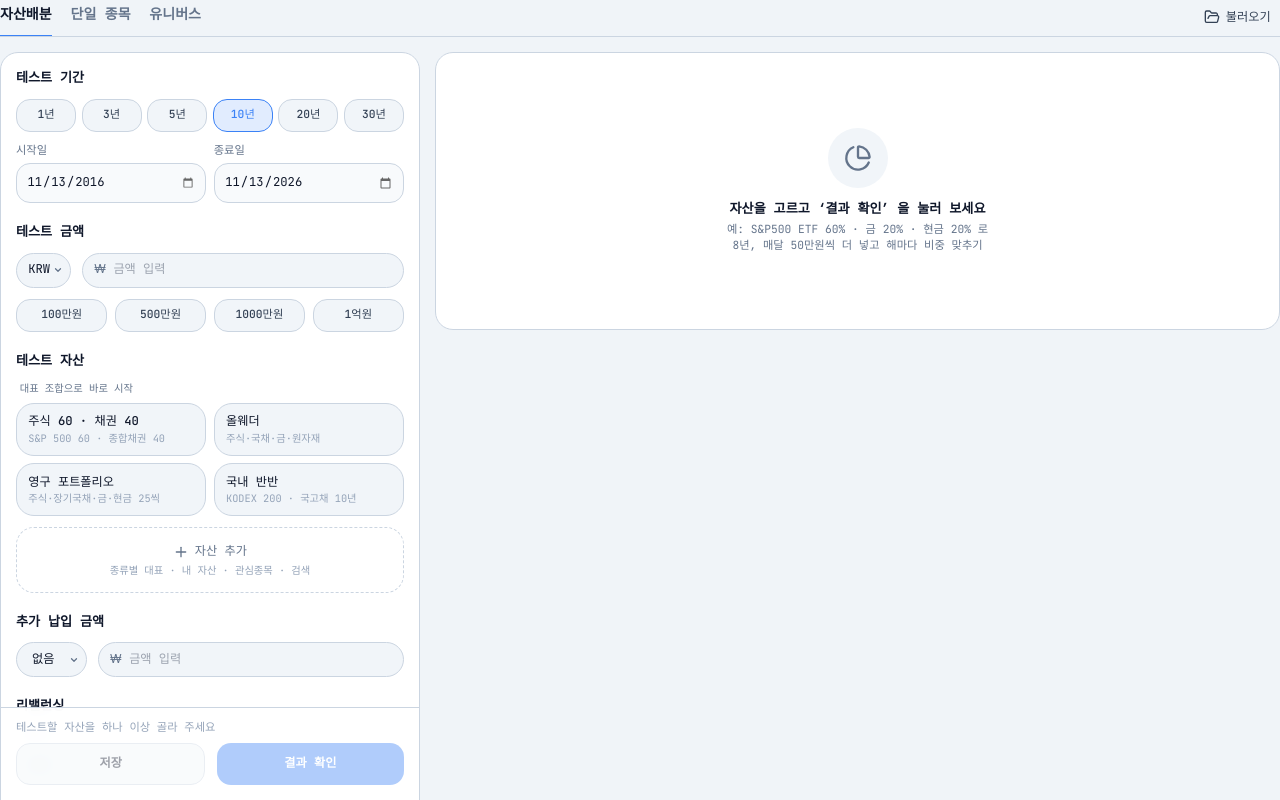
Test: 3) 결과 화면에서 저장 › 로그인 전이면 창 대신 왜 안 되는지 말한다
Click the tab "단일 종목" at (101, 18), box [70, 0, 131, 37]
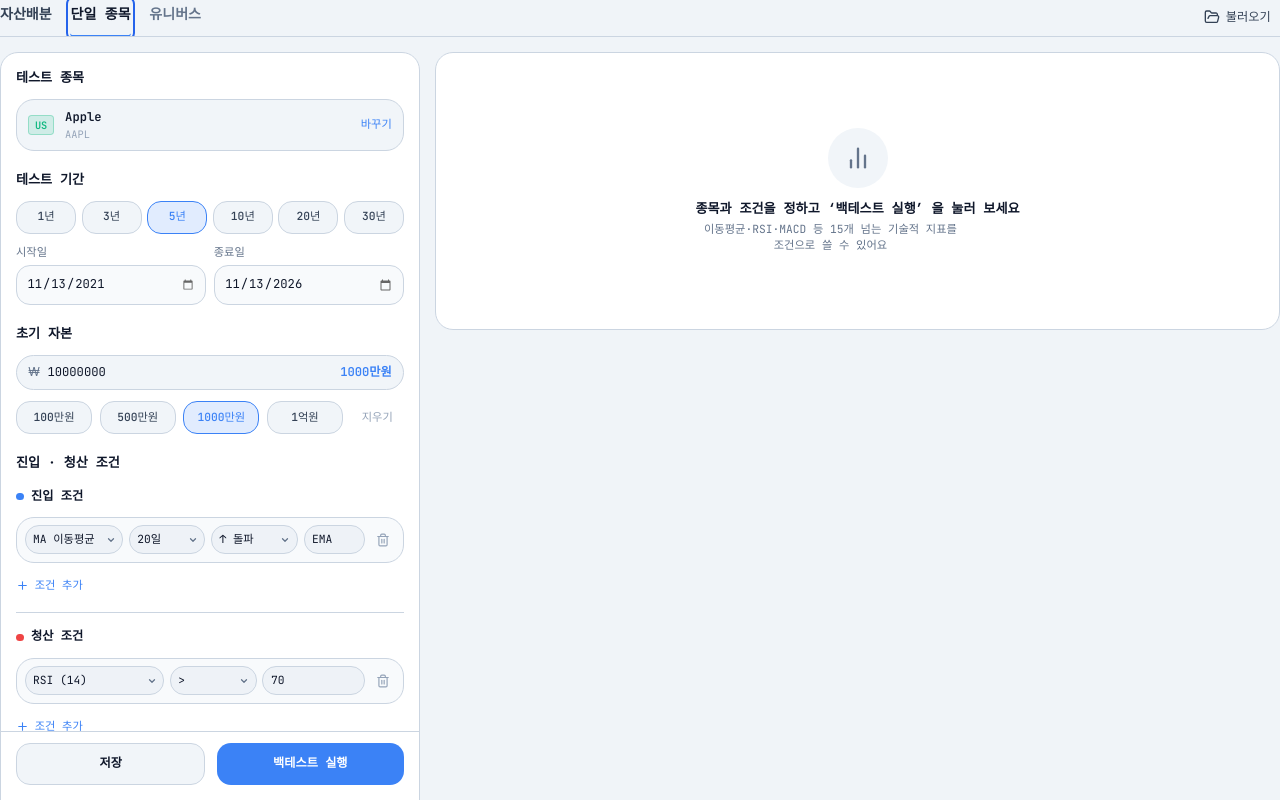
Type "2021-01-04" into the date field labelled "시작일" at (111, 285), box [16, 265, 206, 305]
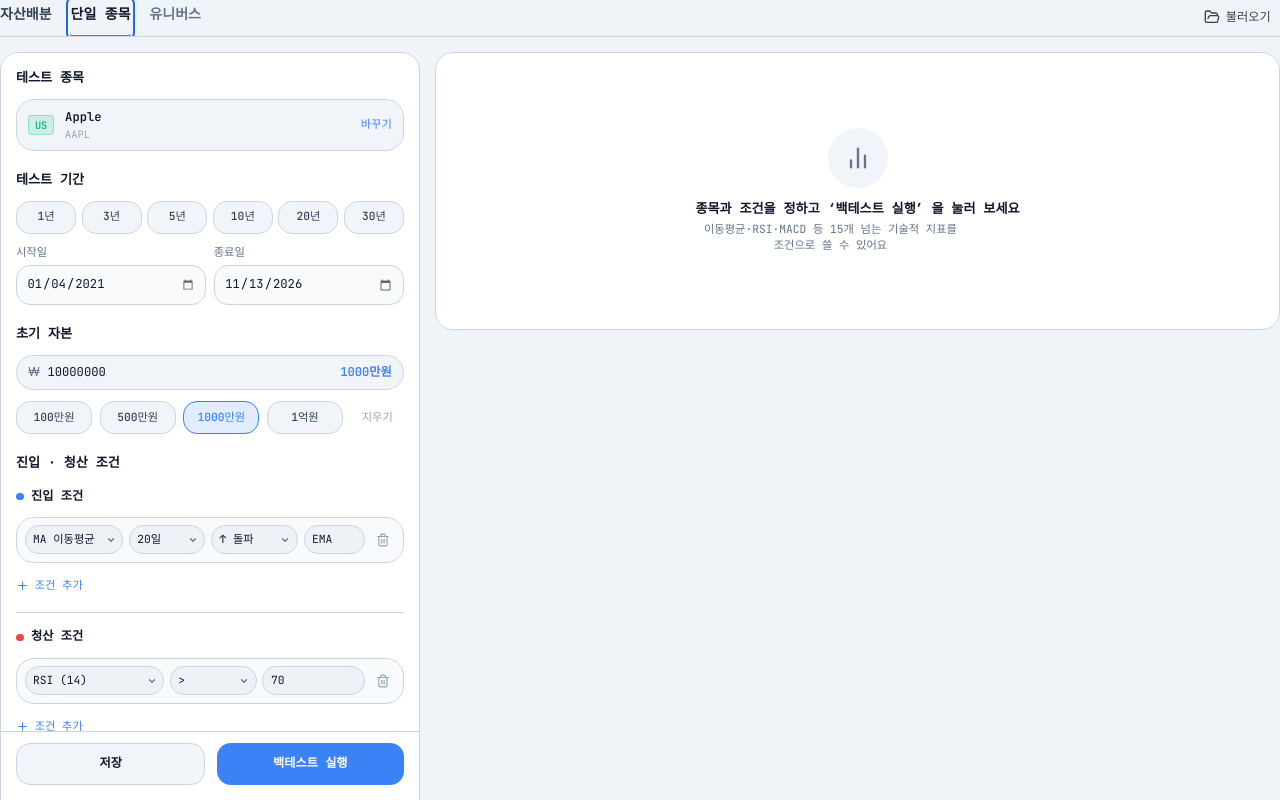
Type "2023-12-29" into the date field labelled "종료일" at (309, 285), box [214, 265, 404, 305]
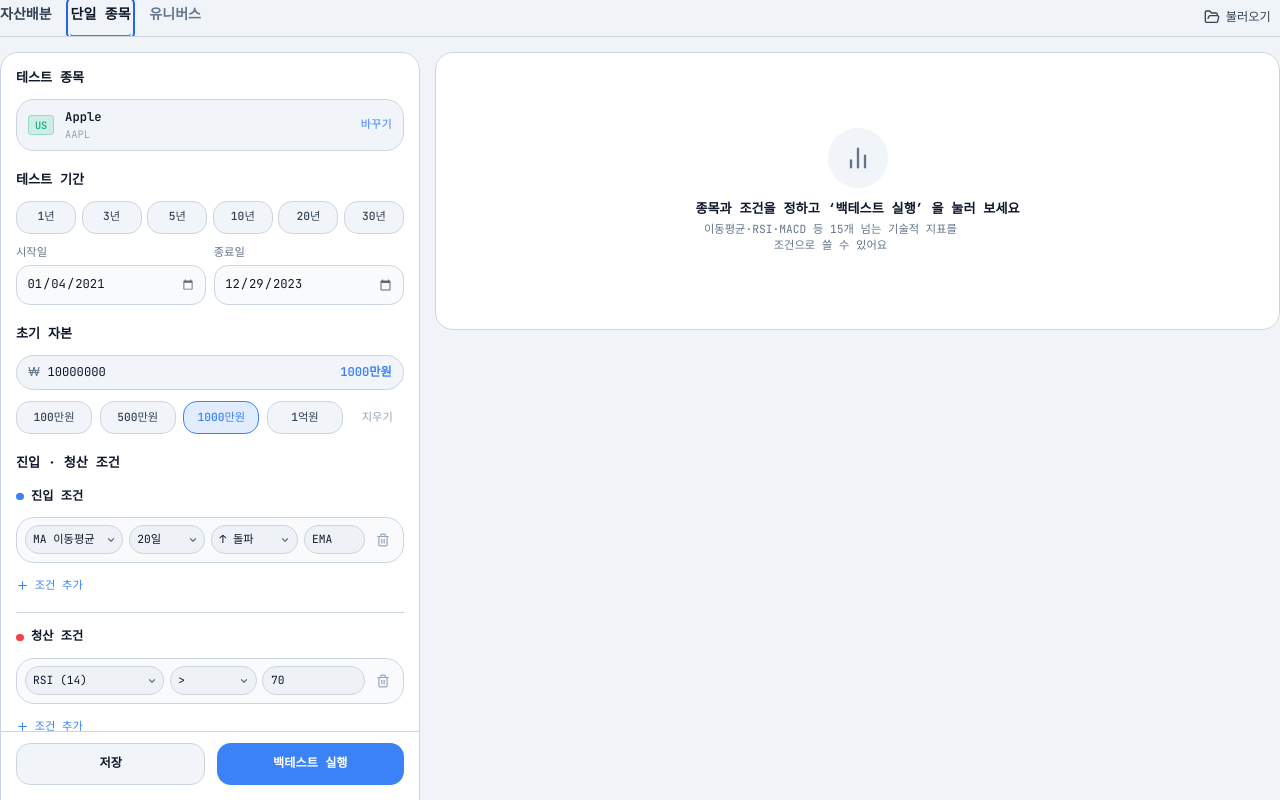
Click the button "백테스트 실행" at (310, 764), box [217, 743, 404, 785]
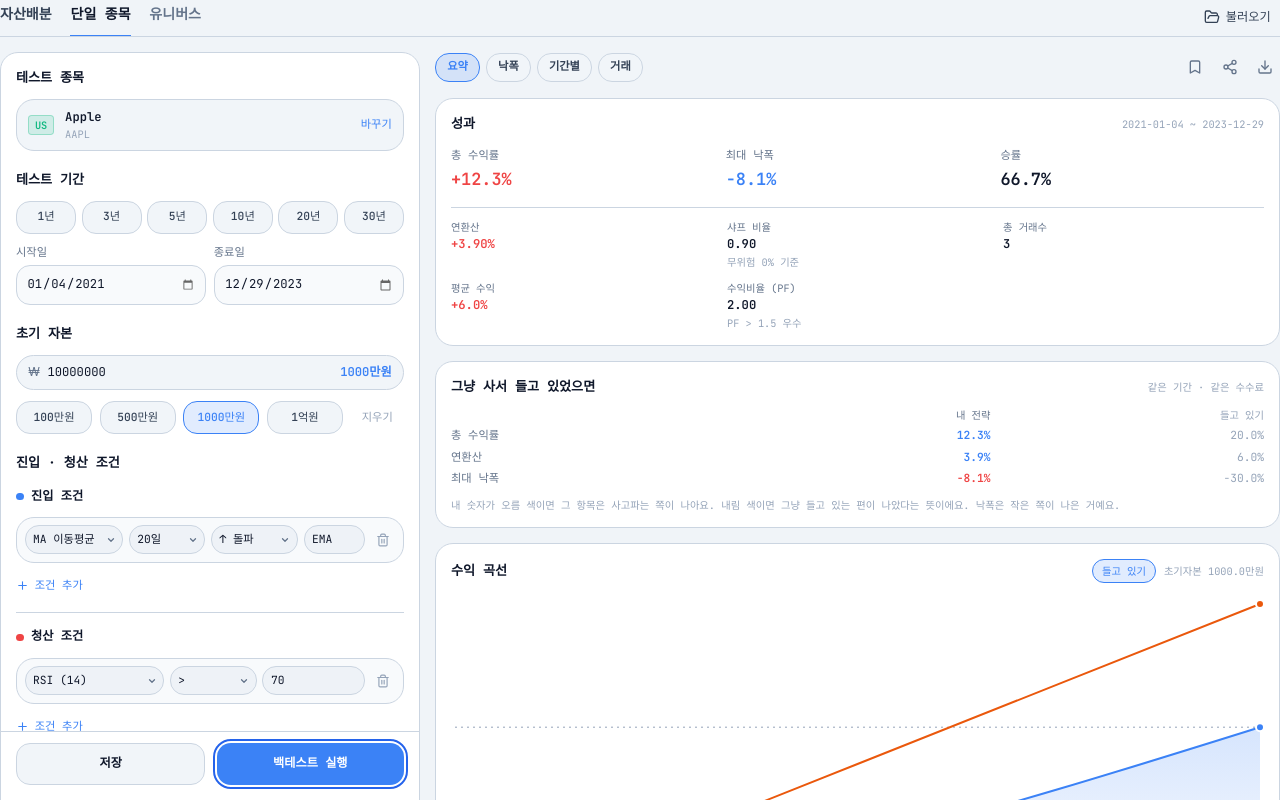
expect the text "성과" is shown: met, box [451, 114, 475, 133]
Click the button named "결과 저장" at (1195, 67), box [1180, 52, 1210, 83]
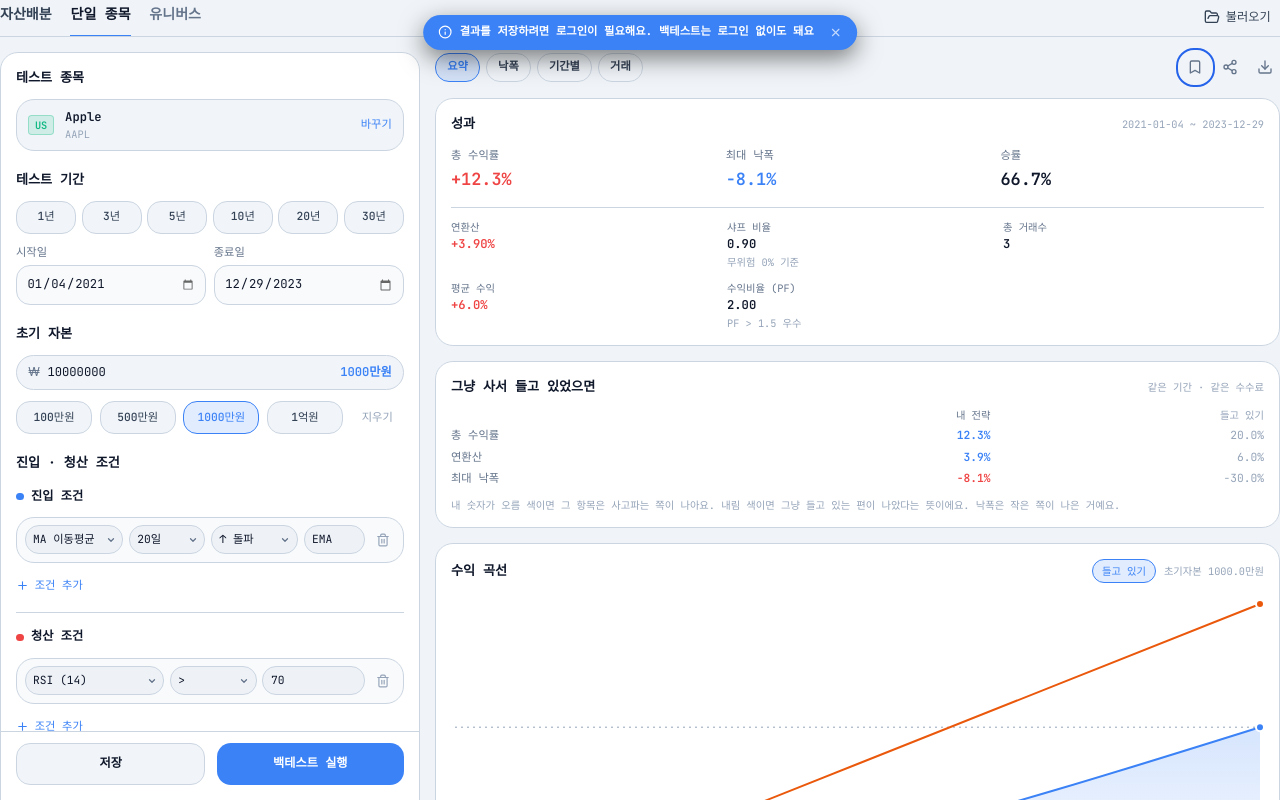
expect the text "결과를 저장하려면 로그인이 필요해요. 백테스트는 로그인 없이도 돼요" is shown: met, box [460, 24, 814, 40]
